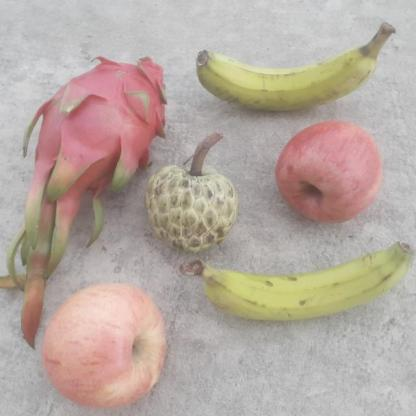annona: (142, 156, 244, 257)
apple: (40, 283, 175, 413), (272, 120, 389, 227)
banana: (193, 21, 394, 116), (188, 242, 415, 324)
pitaya: (21, 55, 170, 214)
